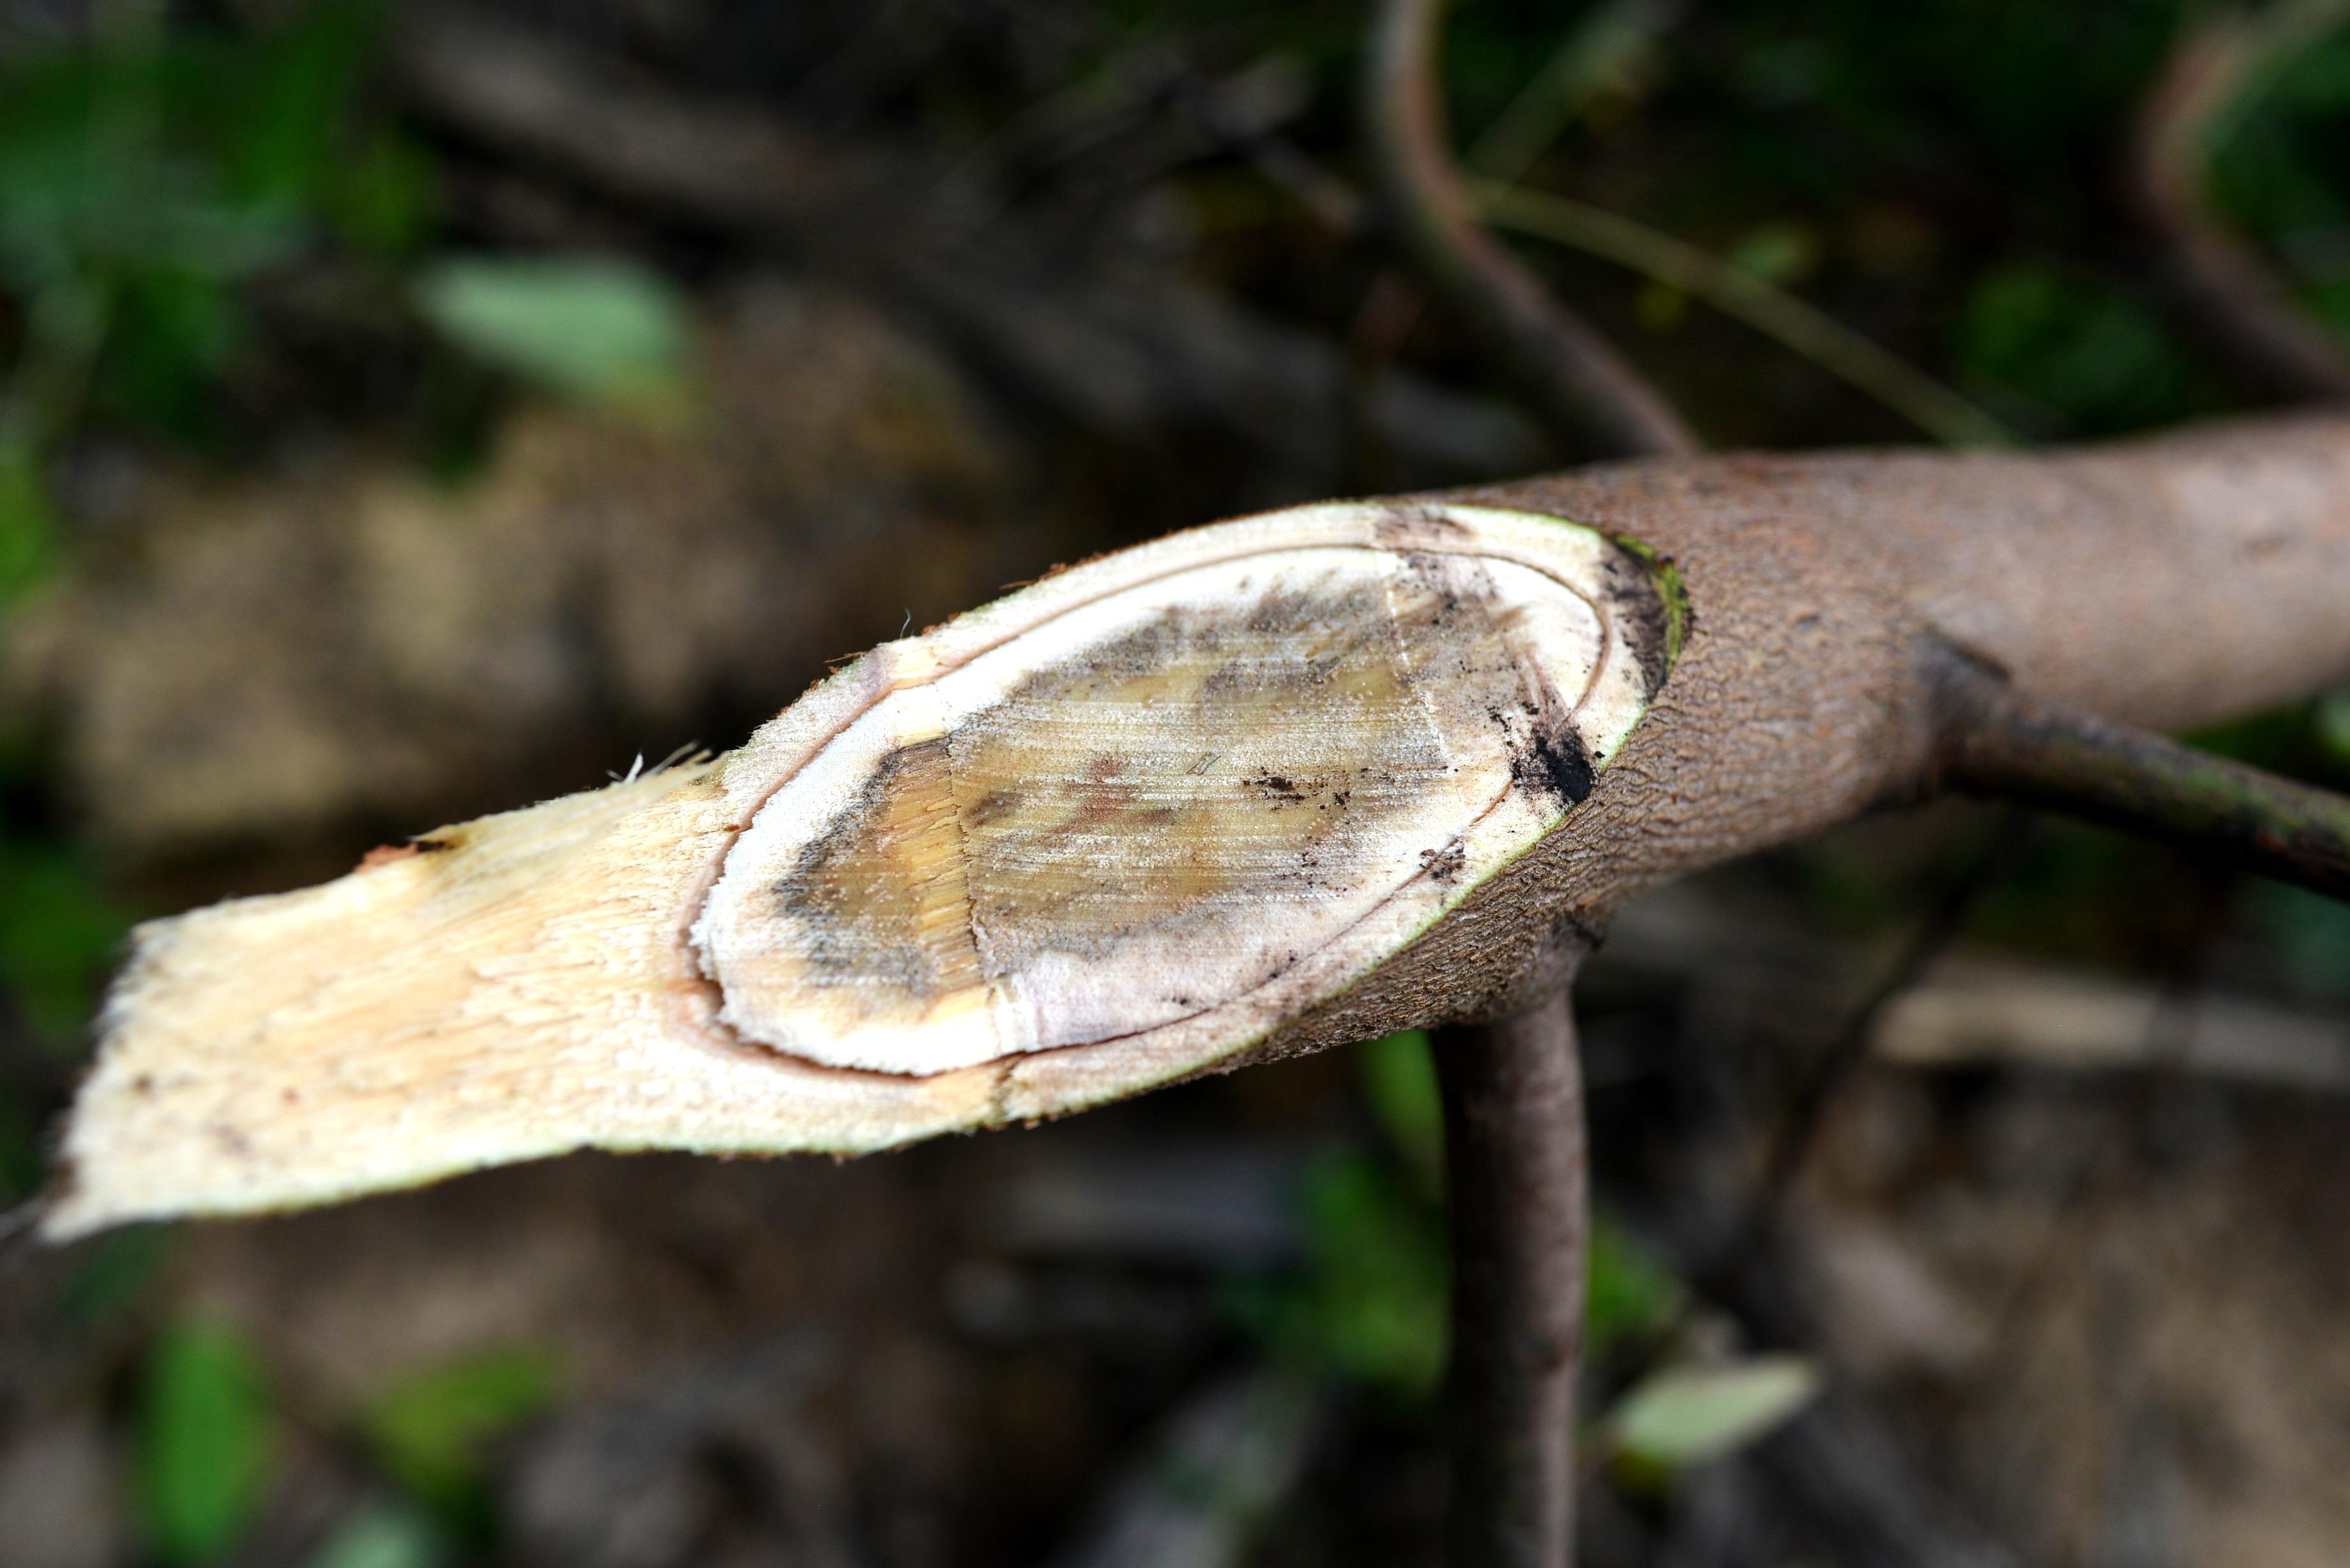Ralstonia: (763, 569, 1536, 1073)
